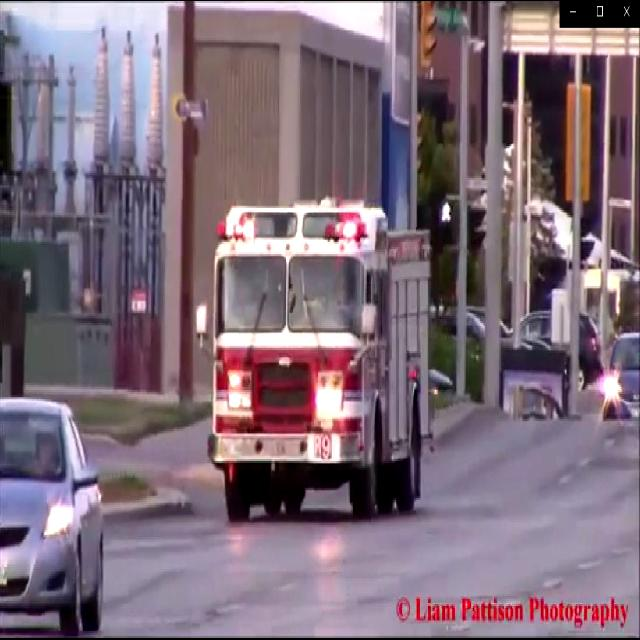emergency: (194, 203, 430, 532)
